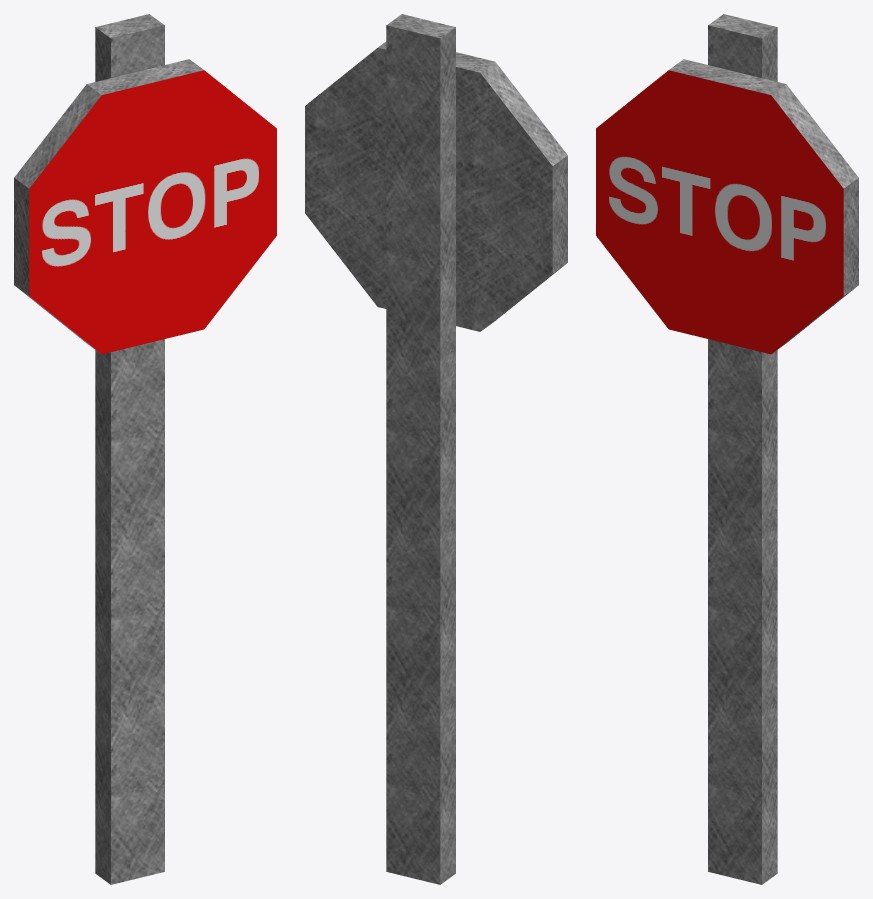
3 views of the same model, side by side, from view 1: azimuth 30°, elevation 25°; view 2: azimuth 150°, elevation 25°; view 3: azimuth 330°, elevation 25° (orthographic).
Parts seen in each view (by area): view 1: stop_senyal_0; view 2: stop_senyal_0; view 3: stop_senyal_0.
Part boxes in pixels (x1,y1,x2,y2): stop_senyal_0: (14,14,276,884); stop_senyal_0: (305,14,567,884); stop_senyal_0: (596,14,858,884).
Size of the model in its own units: 0.1169 by 0.3818 by 0.0251.
Materials: 1 (1 with a texture image).
